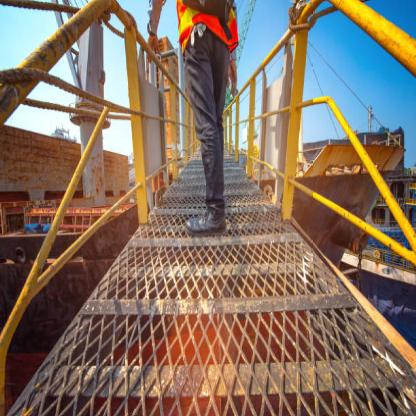bota: (182, 206, 230, 236)
